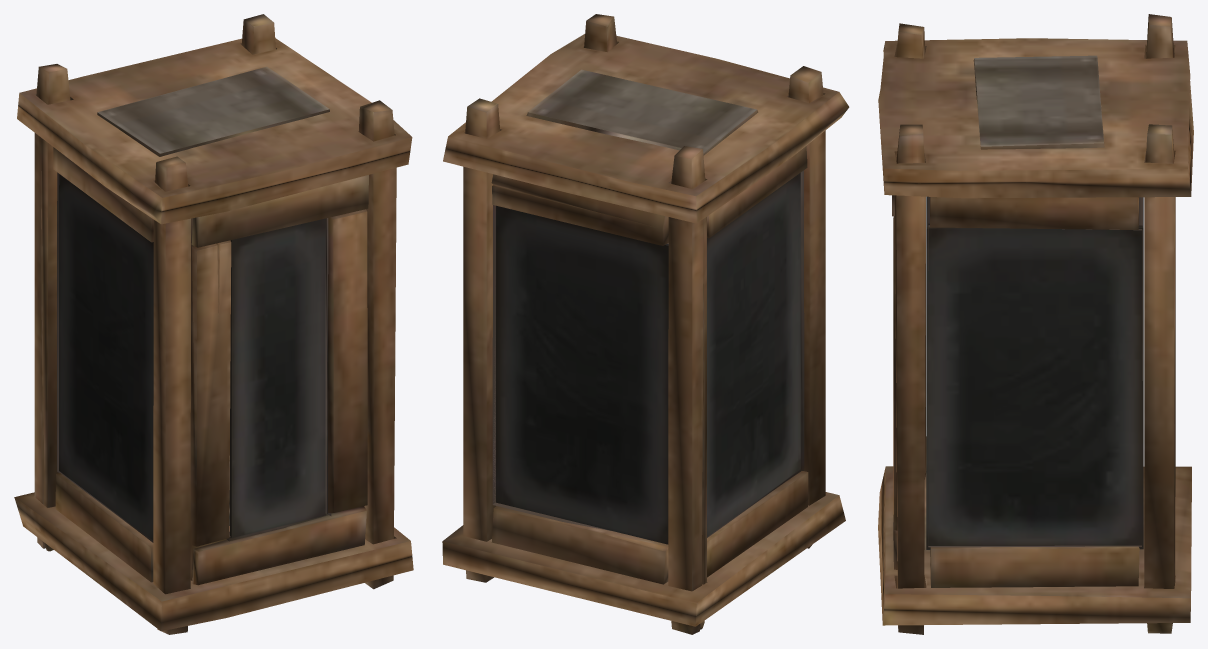
Rendered from lantern.glb.
3 views of the same model, side by side, from view 1: azimuth 30°, elevation 25°; view 2: azimuth 150°, elevation 25°; view 3: azimuth 270°, elevation 25° (orthographic). The views are drawn at different scales.
Parts seen in each view (by area): view 1: wooden_lantern_01; view 2: wooden_lantern_01; view 3: wooden_lantern_01.
Boxes of the visible parts, x1,y1,x2,y2 form: wooden_lantern_01: (14, 14, 413, 634); wooden_lantern_01: (442, 14, 849, 634); wooden_lantern_01: (878, 14, 1193, 634).
Bounding box in the file's own units: 0.218 × 0.3794 × 0.2146.
Materials: 2 (2 with a texture image).
